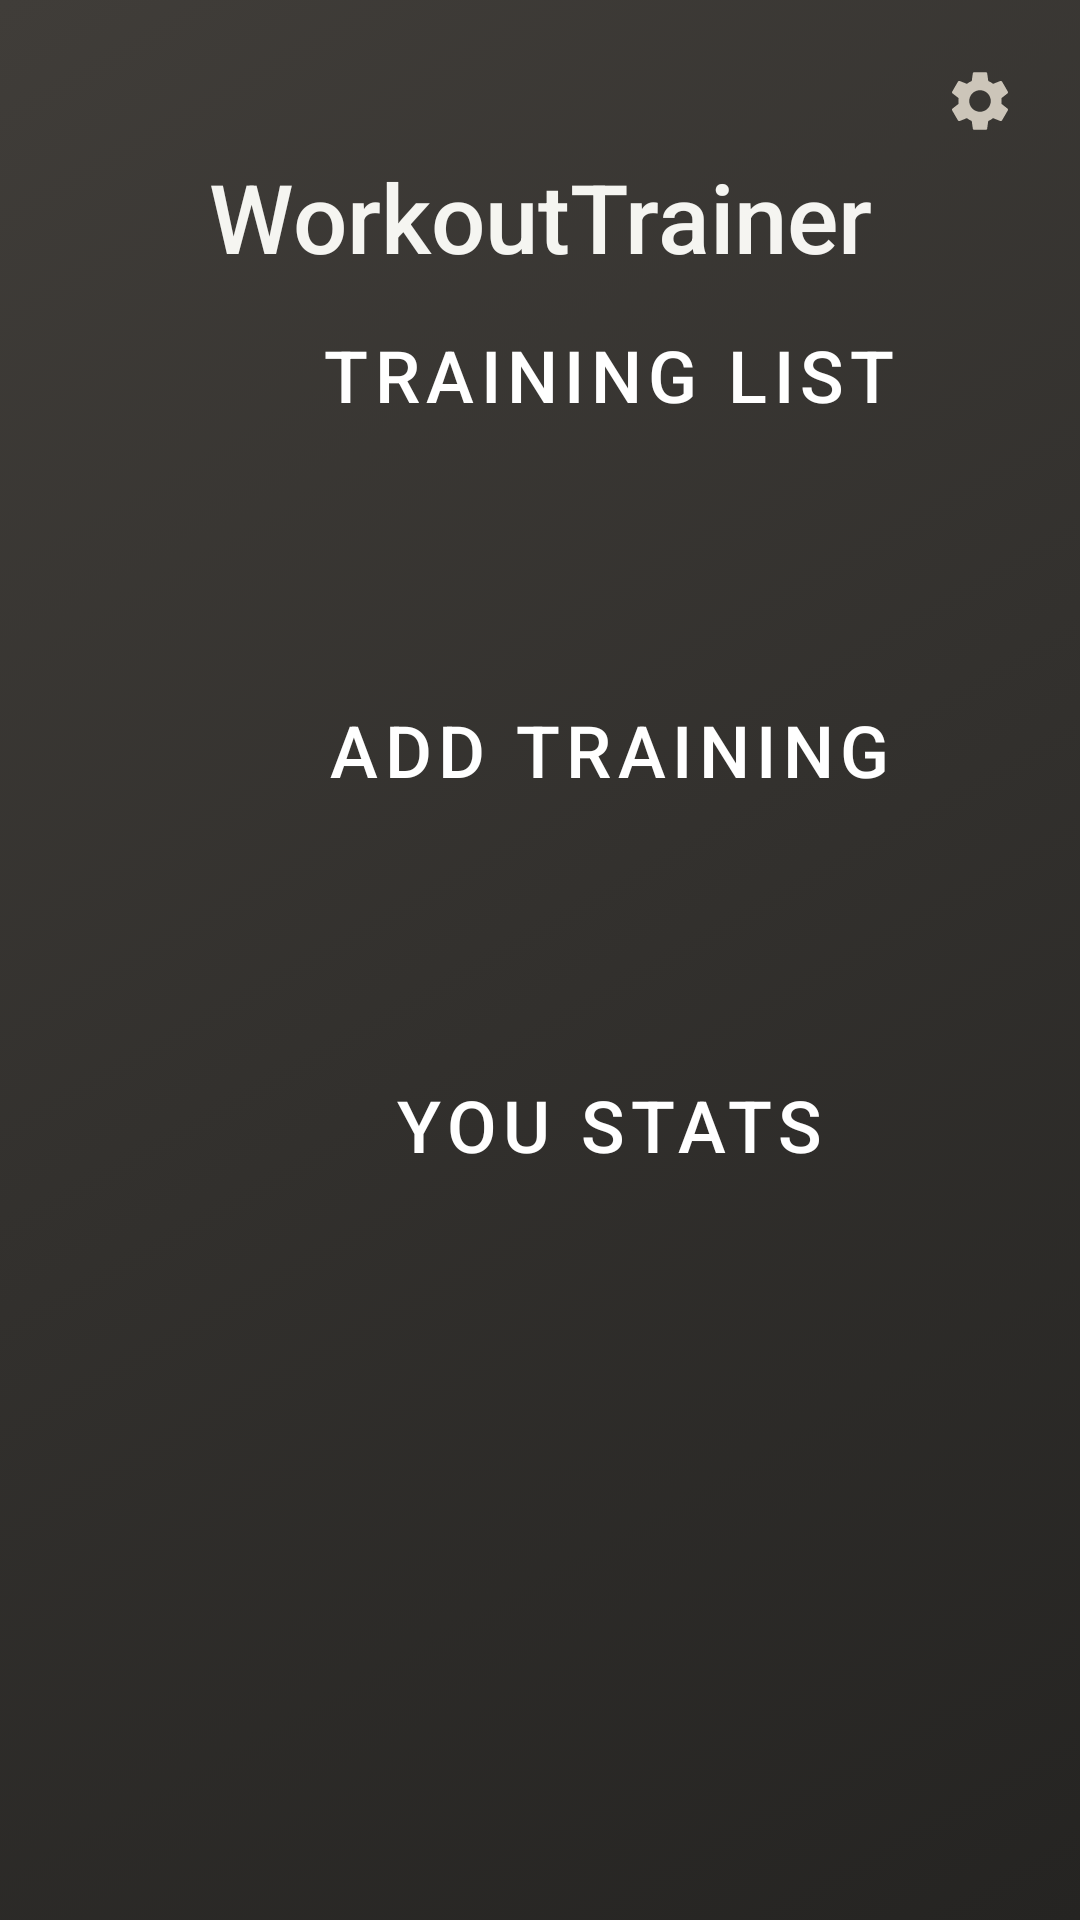

Named icons in this screenshot (1080px×1920px) and their bounding boxes, (x1,y1,x2,y2):
settings: (952,72,1008,130)
